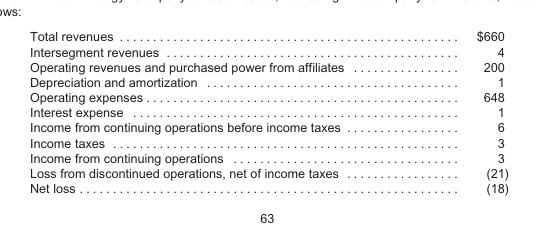table: (28, 28, 507, 194)
table column: (28, 28, 409, 194), (409, 28, 507, 194)
table row: (28, 88, 507, 104), (28, 28, 507, 43), (28, 43, 507, 58), (28, 58, 507, 73), (28, 73, 507, 88), (28, 104, 507, 119), (28, 119, 507, 134), (28, 134, 507, 149), (28, 149, 507, 164), (28, 164, 507, 179), (28, 179, 507, 194)
